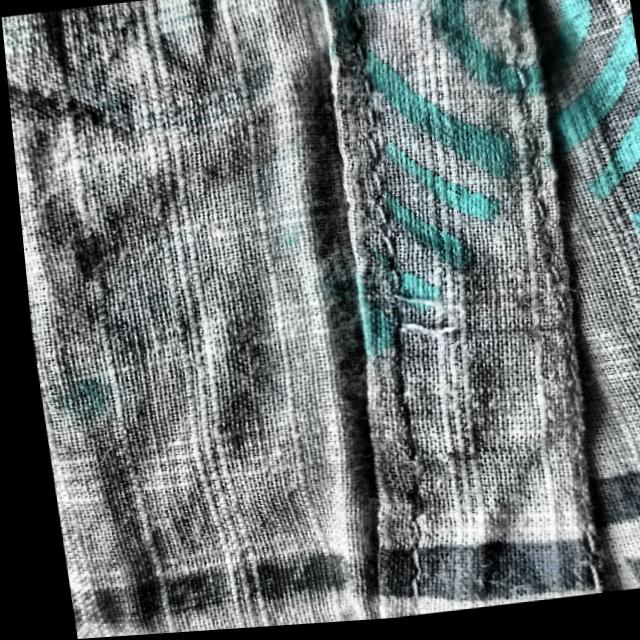Stitch: (365, 262, 483, 351)
